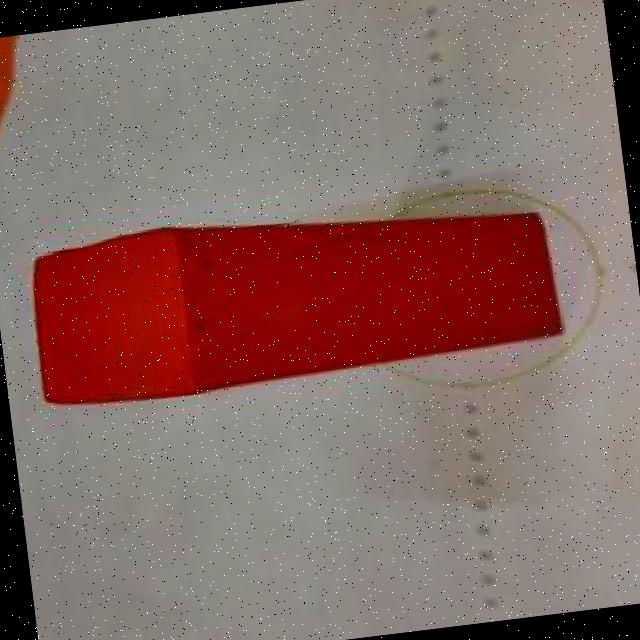redbox: (21, 180, 562, 418)
